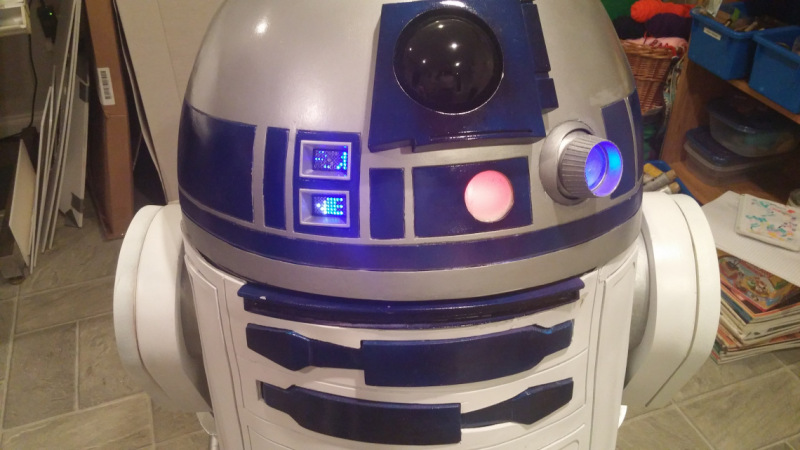r2d2: (126, 1, 718, 444)
